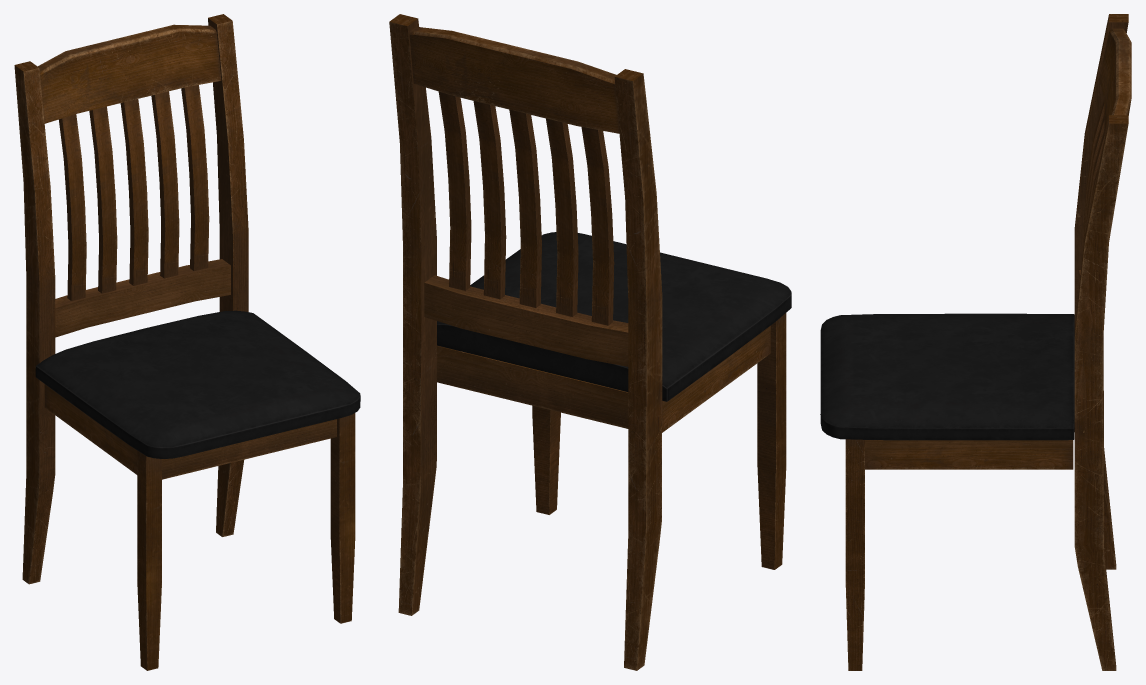
The picture shows the model from 3 angles, left to right: view 1: azimuth 30°, elevation 25°; view 2: azimuth 150°, elevation 25°; view 3: azimuth 270°, elevation 25°; orthographic projection. The views are drawn at different scales.
Parts seen in each view (by area): view 1: chair; view 2: chair; view 3: chair.
Part boxes in pixels (x1=…): chair: x1=14, y1=14, x2=360, y2=670; chair: x1=389, y1=14, x2=791, y2=670; chair: x1=820, y1=14, x2=1131, y2=670.
Bounding box in the file's own units: 0.1735 × 0.3886 × 0.1993.
1 material, 1 textured.
